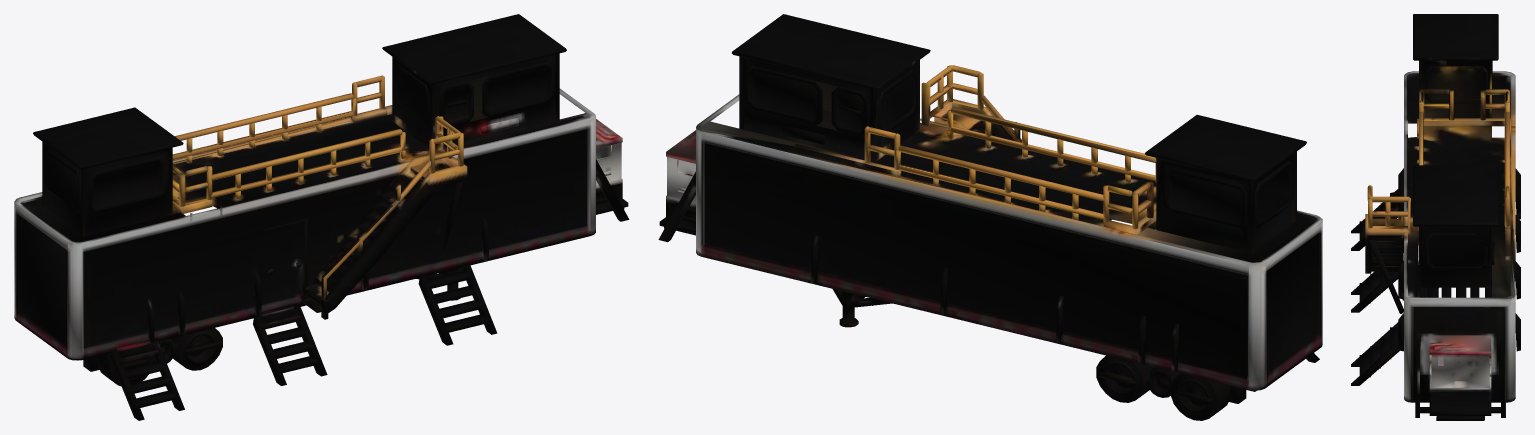
The model's file is compressed_controlvan3d2.glb.
The picture shows the model from 3 angles, left to right: view 1: azimuth 30°, elevation 25°; view 2: azimuth 150°, elevation 25°; view 3: azimuth 270°, elevation 25°; orthographic projection. The views are drawn at different scales.
Visible parts, largest first — view 1: texture_pbr_v128; view 2: texture_pbr_v128; view 3: texture_pbr_v128.
Boxes of the visible parts, bbox=[...] form: texture_pbr_v128: bbox=[14, 14, 629, 420]; texture_pbr_v128: bbox=[658, 14, 1322, 420]; texture_pbr_v128: bbox=[1351, 14, 1520, 420].
Bounding box in the file's own units: 114 × 44.73 × 33.05.
1 material, 1 textured.
